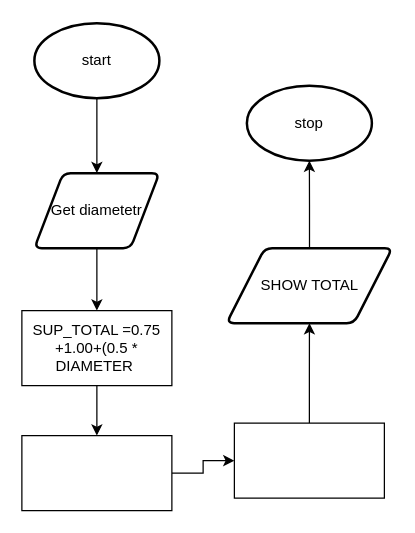
Some shapes in this 415 by 533 pixel diagram are drawn without their labels. Each missing label, with the centre of its shape:
"HST=sub_total *1.13" belongs at (96,472).
"total = sub_total +HST" belongs at (308,460).
